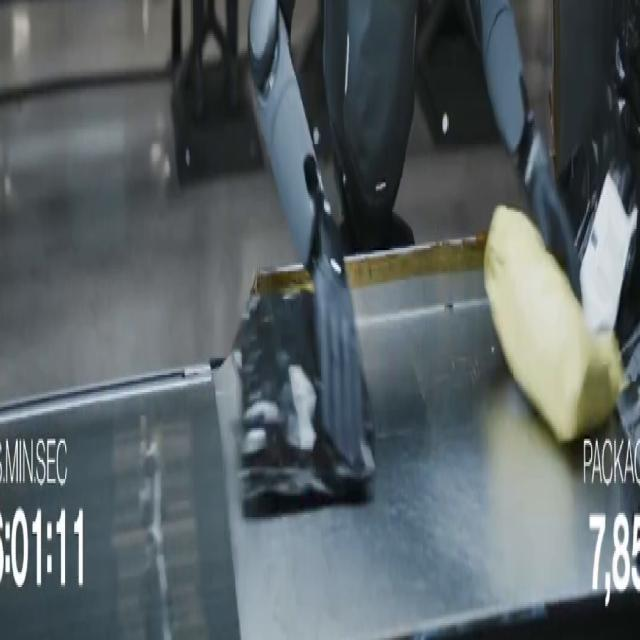package: (484, 208, 625, 442), (233, 291, 374, 502), (559, 56, 639, 343), (617, 327, 639, 468)
